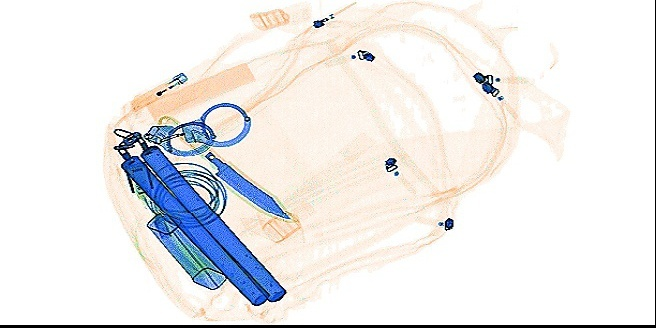handcuffs: (141, 100, 250, 157)
knife: (156, 115, 293, 221)
lighter: (124, 71, 186, 110)
zippooil: (145, 210, 228, 290)
